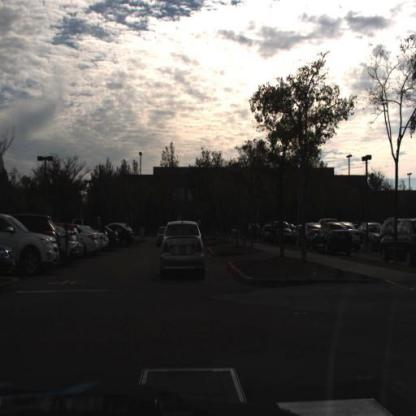car: (159, 215, 209, 281), (18, 227, 62, 284), (377, 218, 416, 269), (313, 222, 355, 260), (58, 226, 81, 265), (25, 212, 56, 234), (267, 222, 294, 247), (82, 224, 99, 260), (297, 221, 318, 248), (120, 222, 137, 250), (358, 221, 382, 238), (108, 228, 120, 254), (148, 223, 159, 250), (96, 229, 108, 252), (99, 228, 107, 253)
